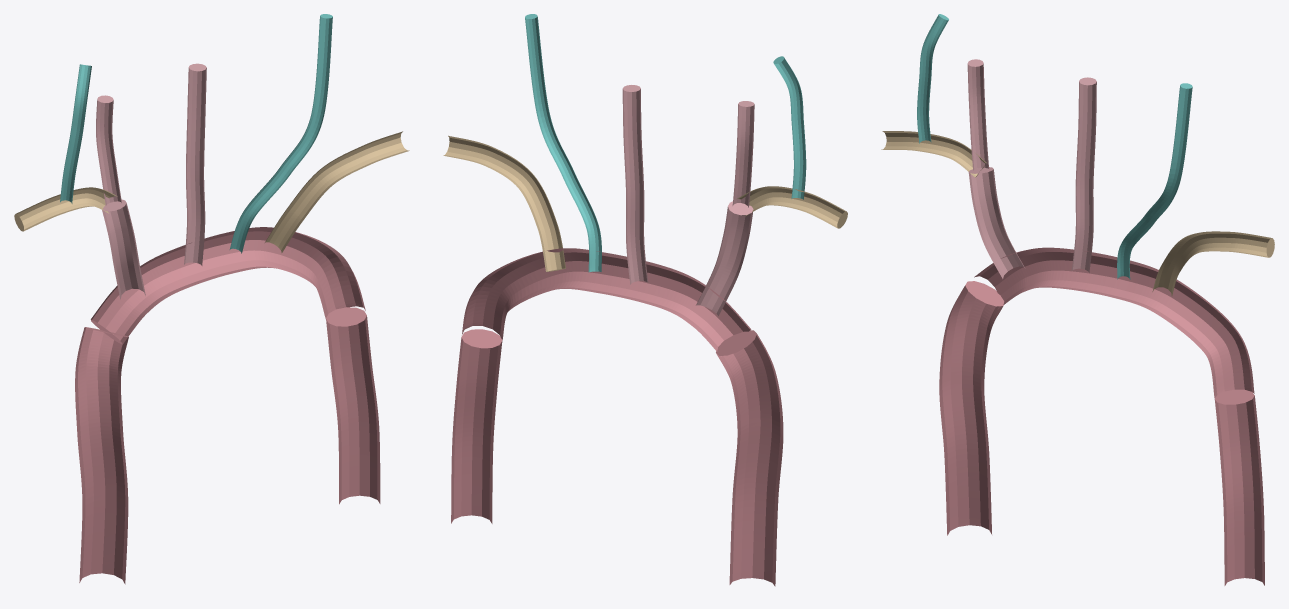
Rendered from arch_leftVA.glb.
3 views of the same model, side by side, from view 1: azimuth 30°, elevation 25°; view 2: azimuth 150°, elevation 25°; view 3: azimuth 330°, elevation 25° (orthographic). The views are drawn at different scales.
Parts seen in each view (by area): view 1: Aorta ascendente, Arco aórtico, Aorta descendente, Carótida comum esquerda, Subclávia esquerda, Vertebral esquerda — origem direta do arco, Tronco braquiocefálico, Subclávia direita, Artéria vertebral direita, Carótida comum direita; view 2: Aorta ascendente, Arco aórtico, Aorta descendente, Subclávia esquerda, Carótida comum esquerda, Vertebral esquerda — origem direta do arco, Tronco braquiocefálico, Subclávia direita, Artéria vertebral direita, Carótida comum direita; view 3: Arco aórtico, Aorta ascendente, Aorta descendente, Carótida comum esquerda, Subclávia esquerda, Vertebral esquerda — origem direta do arco, Tronco braquiocefálico, Carótida comum direita, Subclávia direita, Artéria vertebral direita.
Boxes of the visible parts, x1=… form: Aorta ascendente: x1=75, y1=327, x2=128, y2=584; Arco aórtico: x1=90, y1=227, x2=365, y2=344; Aorta descendente: x1=326, y1=307, x2=380, y2=504; Carótida comum esquerda: x1=184, y1=63, x2=206, y2=265; Subclávia esquerda: x1=265, y1=131, x2=409, y2=252; Vertebral esquerda — origem direta do arco: x1=229, y1=14, x2=332, y2=253; Tronco braquiocefálico: x1=102, y1=199, x2=145, y2=299; Subclávia direita: x1=14, y1=187, x2=117, y2=231; Artéria vertebral direita: x1=60, y1=64, x2=91, y2=203; Carótida comum direita: x1=96, y1=95, x2=121, y2=205; Aorta ascendente: x1=716, y1=330, x2=783, y2=586; Arco aórtico: x1=462, y1=248, x2=751, y2=356; Aorta descendente: x1=451, y1=329, x2=502, y2=523; Subclávia esquerda: x1=443, y1=135, x2=565, y2=271; Carótida comum esquerda: x1=622, y1=85, x2=648, y2=284; Vertebral esquerda — origem direta do arco: x1=525, y1=14, x2=601, y2=272; Tronco braquiocefálico: x1=696, y1=201, x2=753, y2=315; Subclávia direita: x1=736, y1=186, x2=847, y2=228; Artéria vertebral direita: x1=773, y1=56, x2=806, y2=199; Carótida comum direita: x1=732, y1=101, x2=754, y2=207; Arco aórtico: x1=974, y1=247, x2=1254, y2=398; Aorta ascendente: x1=939, y1=281, x2=1004, y2=535; Aorta descendente: x1=1214, y1=389, x2=1264, y2=585; Carótida comum esquerda: x1=1071, y1=77, x2=1096, y2=272; Subclávia esquerda: x1=1152, y1=231, x2=1274, y2=295; Vertebral esquerda — origem direta do arco: x1=1117, y1=83, x2=1192, y2=279; Tronco braquiocefálico: x1=968, y1=167, x2=1025, y2=278; Carótida comum direita: x1=967, y1=59, x2=988, y2=170; Subclávia direita: x1=881, y1=131, x2=986, y2=177; Artéria vertebral direita: x1=917, y1=14, x2=948, y2=143.
Bounding box in the file's own units: 7.75 × 9.97 × 1.41.
